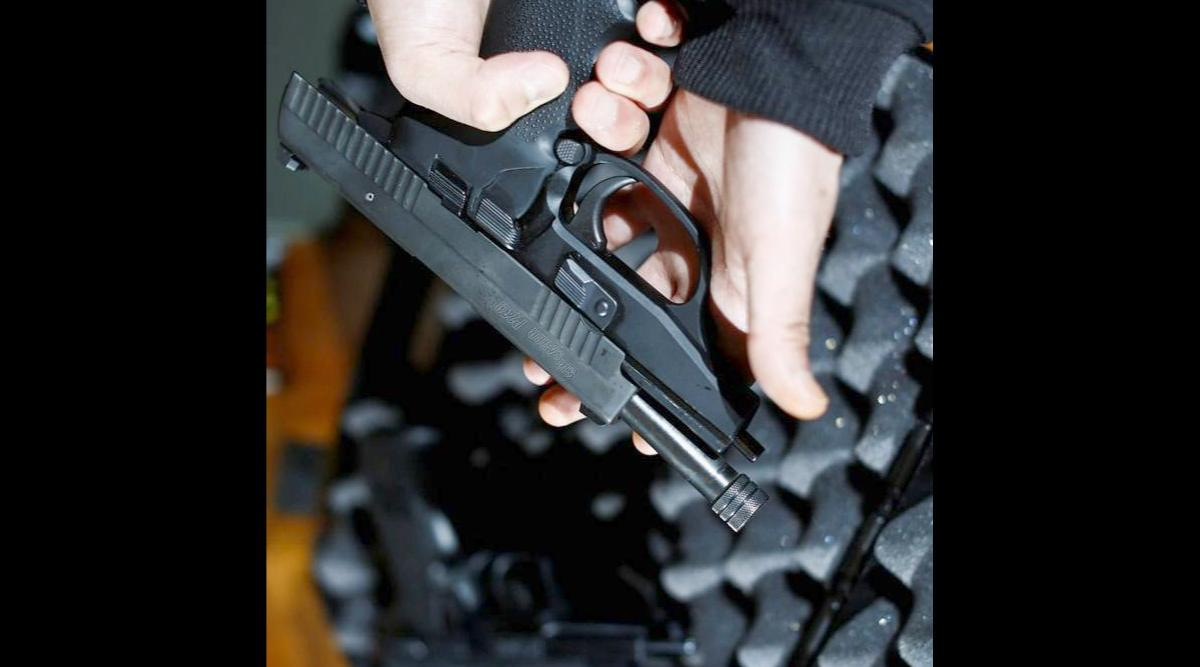gun: (281, 0, 781, 528)
